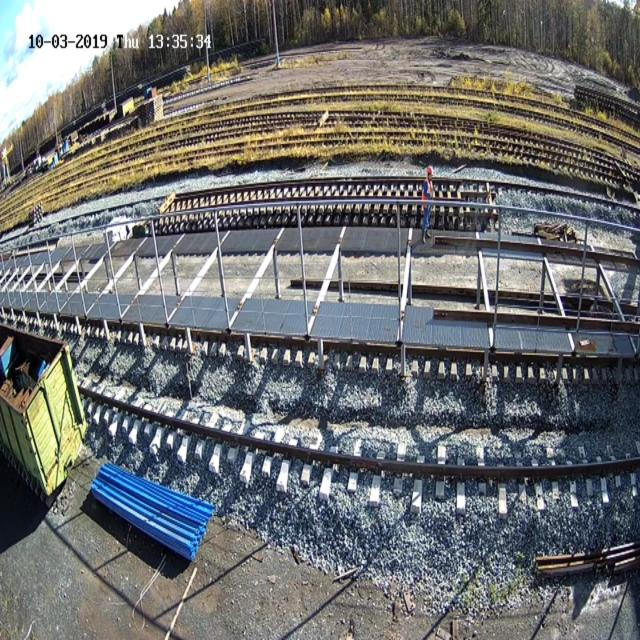Helmet: (427, 165, 432, 175)
Person: (421, 165, 434, 244)
